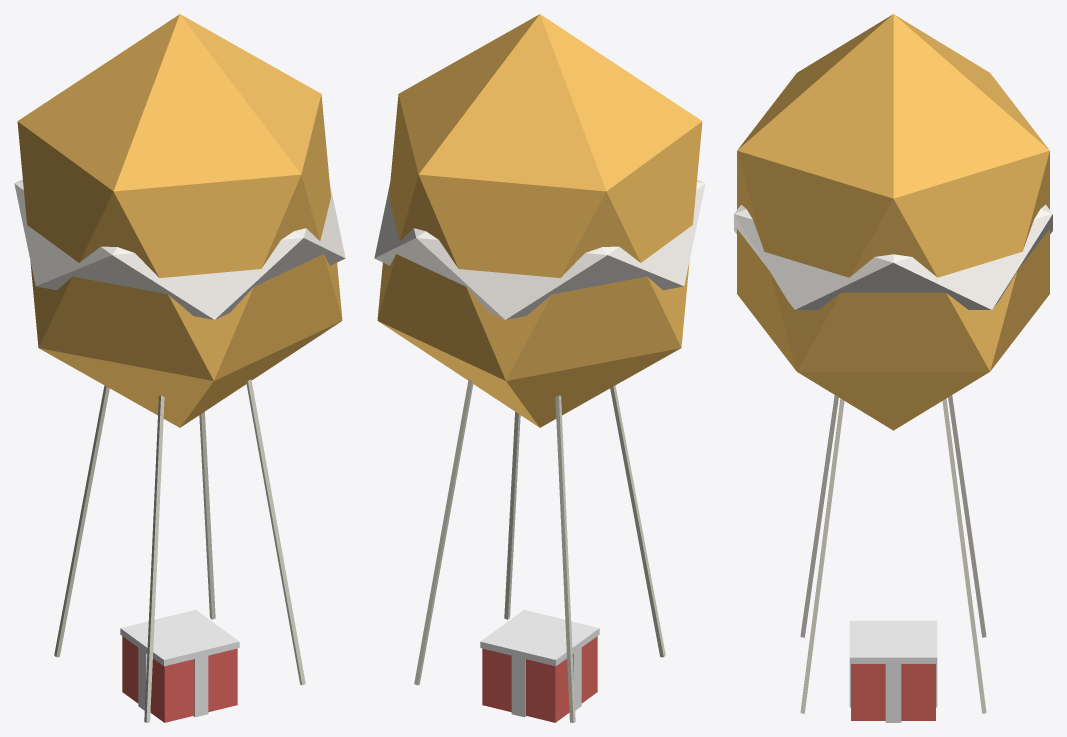
The model's file is supply.glb.
3 renders of one model, left to right at view 1: azimuth 30°, elevation 25°; view 2: azimuth 150°, elevation 25°; view 3: azimuth 270°, elevation 25°, orthographic.
Visible parts, largest first — view 1: Balloon, Crate, Lid; view 2: Balloon, Crate, Lid; view 3: Balloon, Crate, Lid.
Boxes of the visible parts, bbox=[...] form: Balloon: bbox=[14, 14, 345, 722]; Crate: bbox=[122, 636, 237, 722]; Lid: bbox=[120, 610, 239, 666]; Balloon: bbox=[374, 14, 705, 722]; Crate: bbox=[482, 636, 597, 722]; Lid: bbox=[480, 610, 599, 666]; Balloon: bbox=[734, 14, 1052, 713]; Crate: bbox=[849, 662, 937, 722]; Lid: bbox=[849, 620, 937, 663].
Size of the model in its own units: 4.74 by 10.77 by 4.51.
